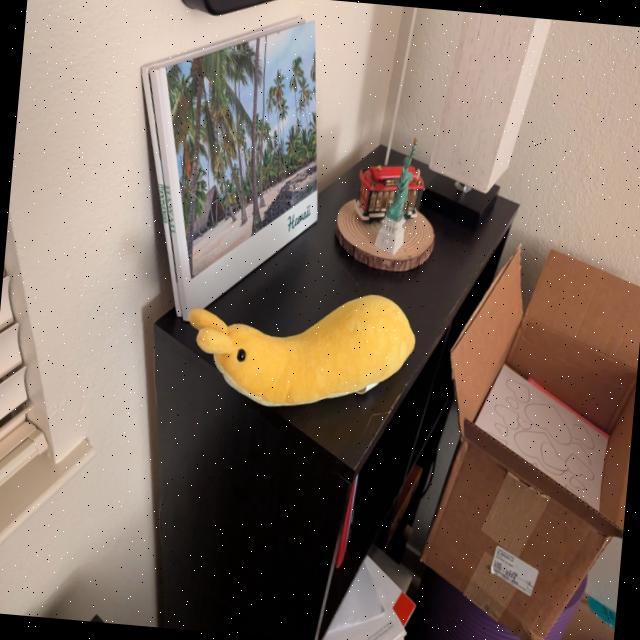banana-slug-toy: (178, 277, 426, 425)
